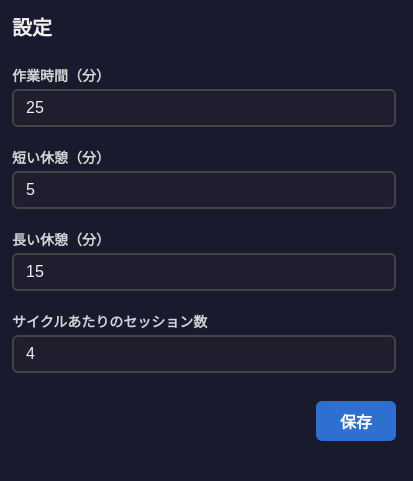
Test: SettingsForm.vue（要件 3.7） › 作業時間に範囲外の値を入力したとき › エラーメッセージが表示され、保存ボタンが無効化される（上限超え: 61）
Replace the text in the number field labelled "作業時間（分）" with "61" at (204, 108), box [12,89,396,127]
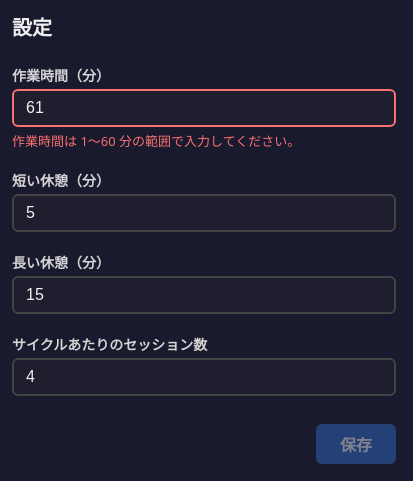
Expected: the message reads "作業時間は 1〜60 分の範囲で入力してください。", [12,132,300,150]
Expected: the button with aria-label "設定を保存" is disabled, [316,424,396,464]
